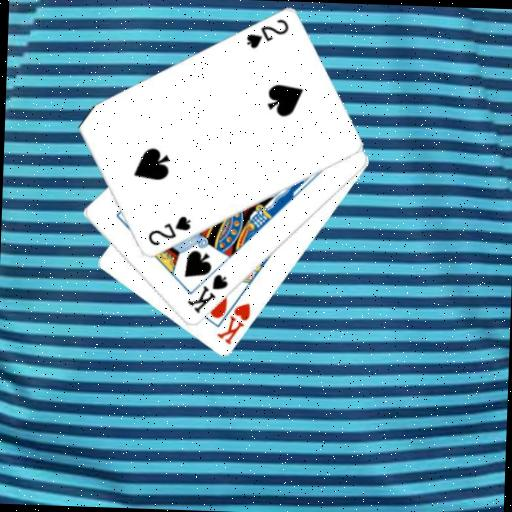2S: (144, 211, 192, 249), (242, 14, 290, 51)
KH: (213, 299, 252, 347)
KS: (183, 270, 230, 317)
